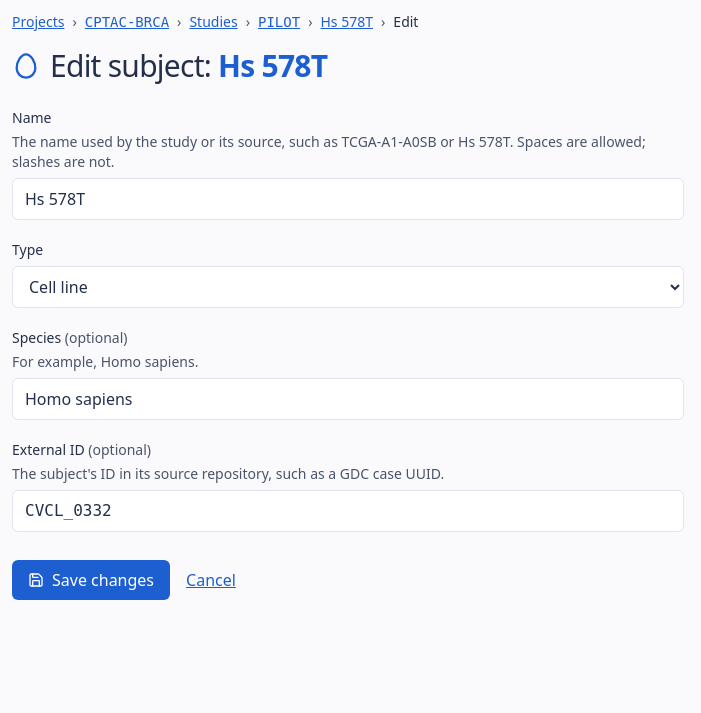
EditSubjectPage › highlights the external ID when it is already used
Click the button "Save changes" at (91,580), box [12,560,170,600]
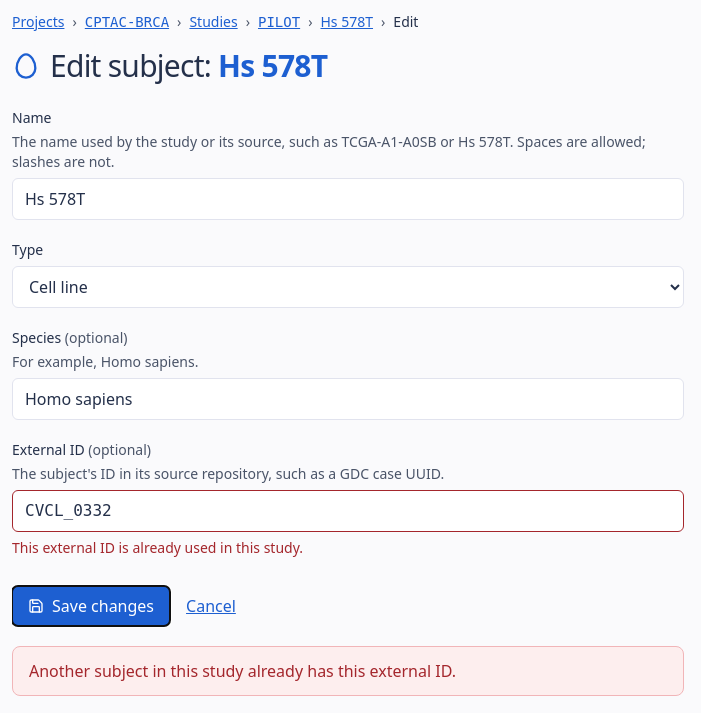
Expected: the message reads "Another subject in this study already has this external ID.", [29,660,456,682]
